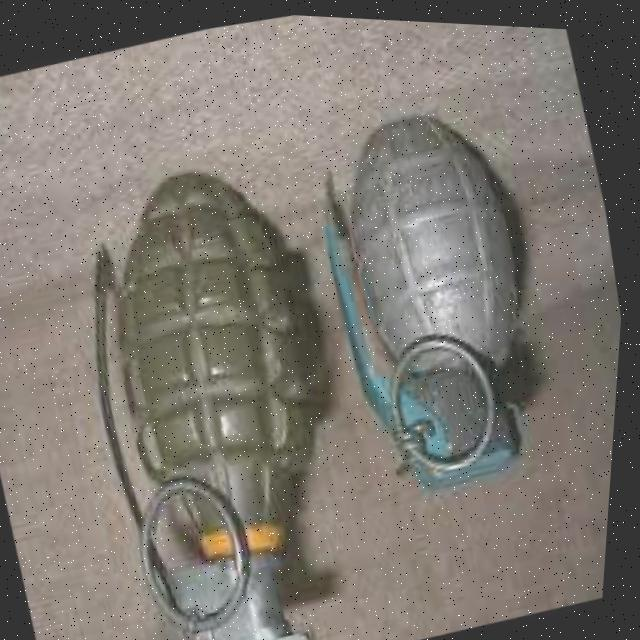grenade: (0, 127, 433, 640), (278, 72, 606, 513)
